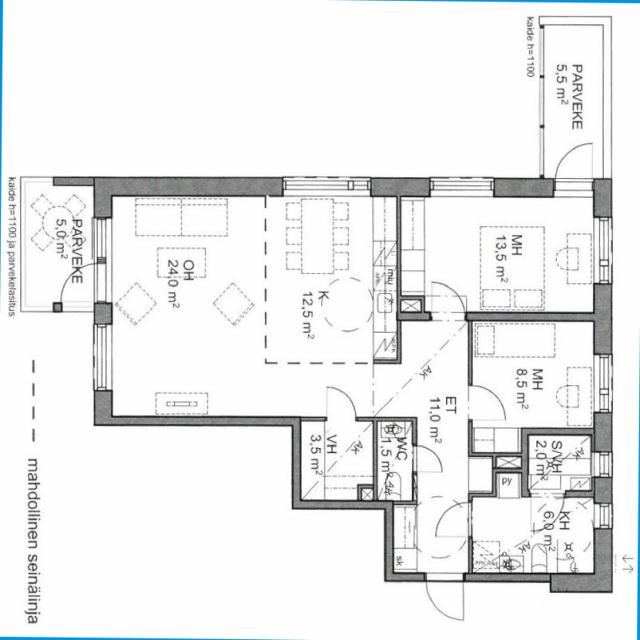door: (57, 263, 112, 301), (556, 139, 592, 196), (426, 573, 463, 620), (431, 277, 465, 321), (531, 490, 564, 531), (469, 385, 506, 420), (436, 502, 472, 536), (326, 386, 356, 421), (412, 446, 442, 472)
